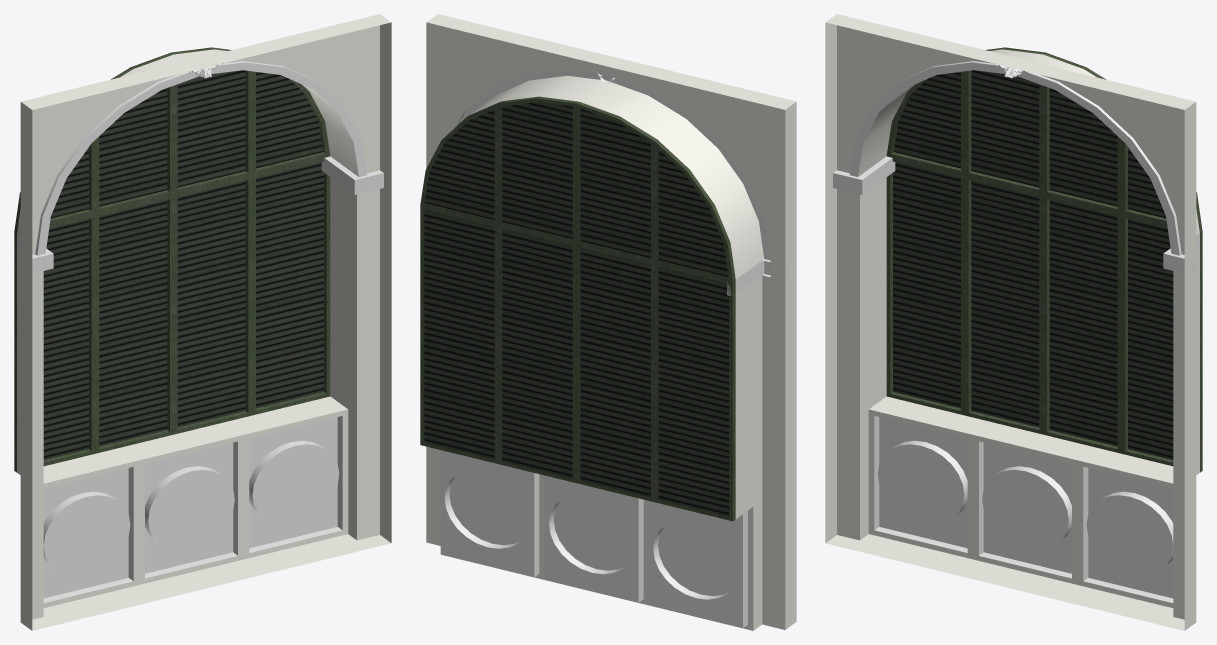
File: window_floor2_behind6.glb
3 views of the same model, side by side, from view 1: azimuth 30°, elevation 25°; view 2: azimuth 150°, elevation 25°; view 3: azimuth 330°, elevation 25° (orthographic).
Parts seen in each view (by area): view 1: 3DGeom-1, 3DGeom-10.001, 3DGeom-2, 3DGeom-10, 3DGeom-11.001, 3DGeom-11; view 2: 3DGeom-1, 3DGeom-10, 3DGeom-10.001, 3DGeom-2, 3DGeom-11, 3DGeom-11.001; view 3: 3DGeom-1, 3DGeom-10, 3DGeom-2, 3DGeom-10.001, 3DGeom-11, 3DGeom-11.001.
Boxes of the visible parts, box(x1,y1,x2,y2) form: 3DGeom-1: box(17, 14, 391, 630); 3DGeom-10.001: box(177, 70, 323, 427); 3DGeom-2: box(17, 61, 383, 602); 3DGeom-10: box(43, 88, 167, 459); 3DGeom-11.001: box(171, 47, 330, 434); 3DGeom-11: box(14, 52, 173, 472); 3DGeom-1: box(426, 14, 796, 630); 3DGeom-10: box(580, 109, 729, 516); 3DGeom-10.001: box(424, 102, 572, 478); 3DGeom-2: box(441, 69, 788, 627); 3DGeom-11: box(576, 101, 735, 521); 3DGeom-11.001: box(420, 96, 578, 482); 3DGeom-1: box(825, 14, 1199, 630); 3DGeom-10: box(893, 70, 1039, 427); 3DGeom-2: box(833, 61, 1199, 602); 3DGeom-10.001: box(1049, 88, 1173, 459); 3DGeom-11: box(886, 47, 1045, 434); 3DGeom-11.001: box(1043, 52, 1202, 472).
Size of the model in its own units: 2.23 by 3.09 by 0.4385.
Materials: 4 (2 with a texture image).
